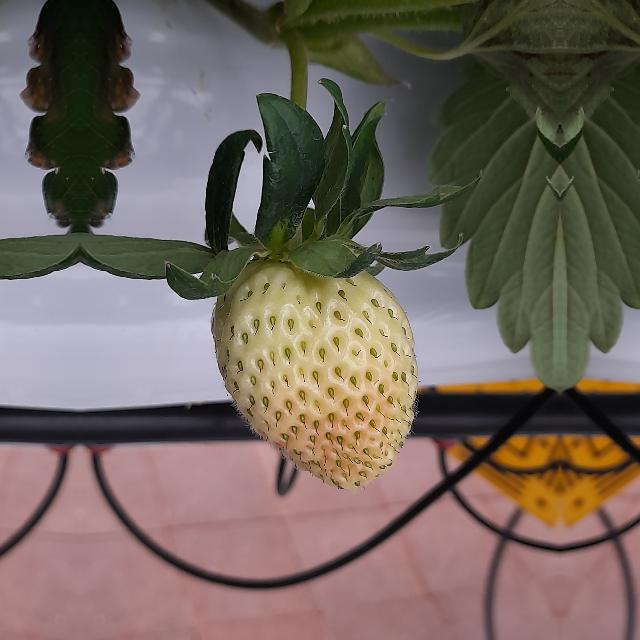Health_50: (210, 258, 418, 490)
